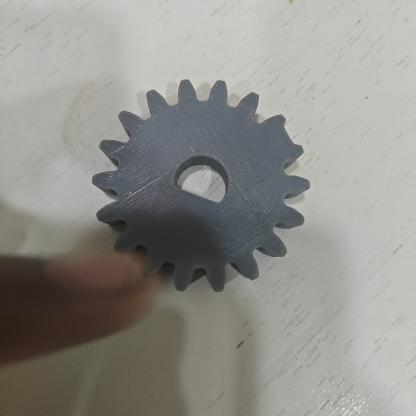defect: (252, 102, 306, 174), (158, 168, 227, 223)
gear: (92, 80, 310, 292)
